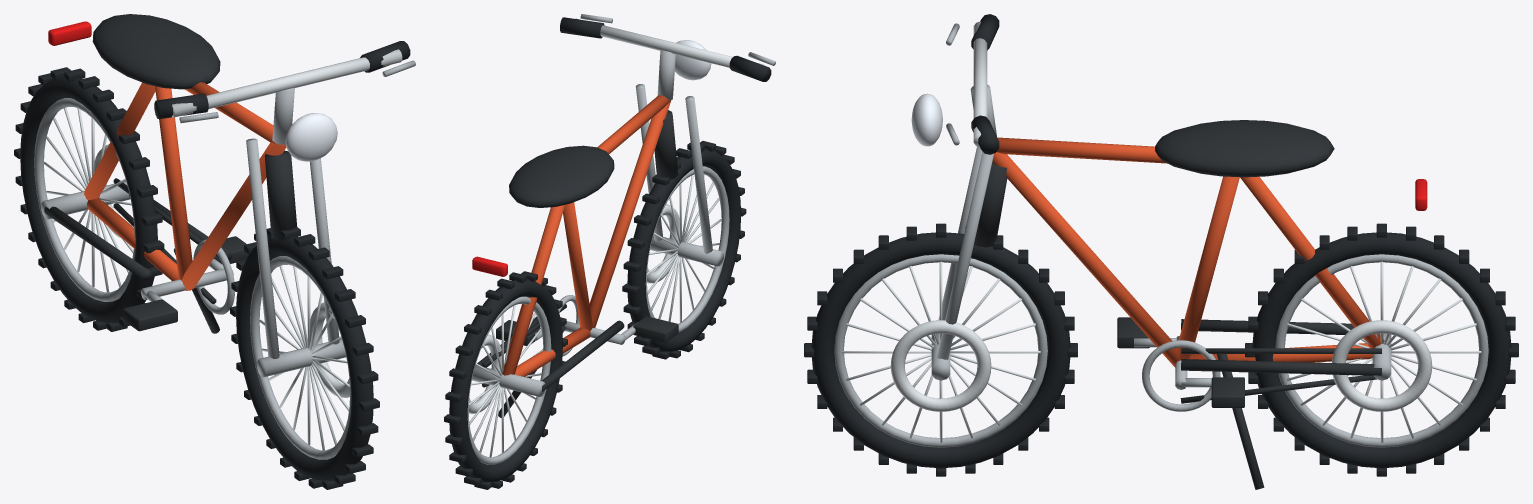
File: mountain-bike.glb
3 views of the same model, side by side, from view 1: azimuth 30°, elevation 25°; view 2: azimuth 150°, elevation 25°; view 3: azimuth 270°, elevation 25° (orthographic). The views are drawn at different scales.
Visible parts, largest first — view 1: Rim, Swing arm, Spoke, Frame, wheel-front, wheel-rear, Grip, Headlight, Tail light; view 2: Rim, Swing arm, Frame, Spoke, Grip, wheel-rear, wheel-front, Headlight, Tail light; view 3: Rim, Swing arm, Spoke, wheel-front, wheel-rear, Frame, Grip, Headlight.
Boxes of the visible parts, x1,y1,x2,y2 form: Rim: [34, 60, 415, 459]; Swing arm: [44, 14, 297, 333]; Spoke: [44, 49, 402, 450]; Frame: [84, 82, 286, 290]; wheel-front: [236, 236, 373, 480]; wheel-rear: [20, 76, 157, 323]; Grip: [14, 41, 410, 489]; Headlight: [285, 113, 337, 161]; Tail light: [48, 21, 91, 45]; Rim: [467, 14, 775, 464]; Swing arm: [477, 110, 678, 417]; Frame: [502, 95, 671, 376]; Spoke: [468, 18, 763, 457]; Grip: [444, 17, 771, 489]; wheel-rear: [449, 278, 562, 482]; wheel-front: [627, 148, 741, 352]; Headlight: [674, 40, 711, 80]; Tail light: [472, 256, 507, 276]; Rim: [834, 23, 1488, 447]; Swing arm: [974, 120, 1381, 489]; Spoke: [841, 21, 1481, 442]; wheel-front: [811, 232, 1070, 468]; wheel-rear: [1252, 232, 1511, 468]; Frame: [992, 137, 1384, 367]; Grip: [804, 14, 1518, 476]; Headlight: [911, 93, 942, 146].
Size of the model in its own units: 0.749 by 1.11 by 1.82.
